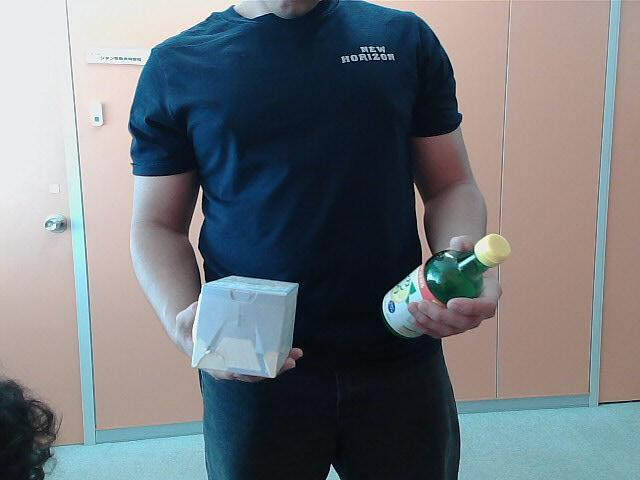Blind_box: (193, 268, 299, 382)
Lemon_sapporo: (382, 232, 511, 346)
